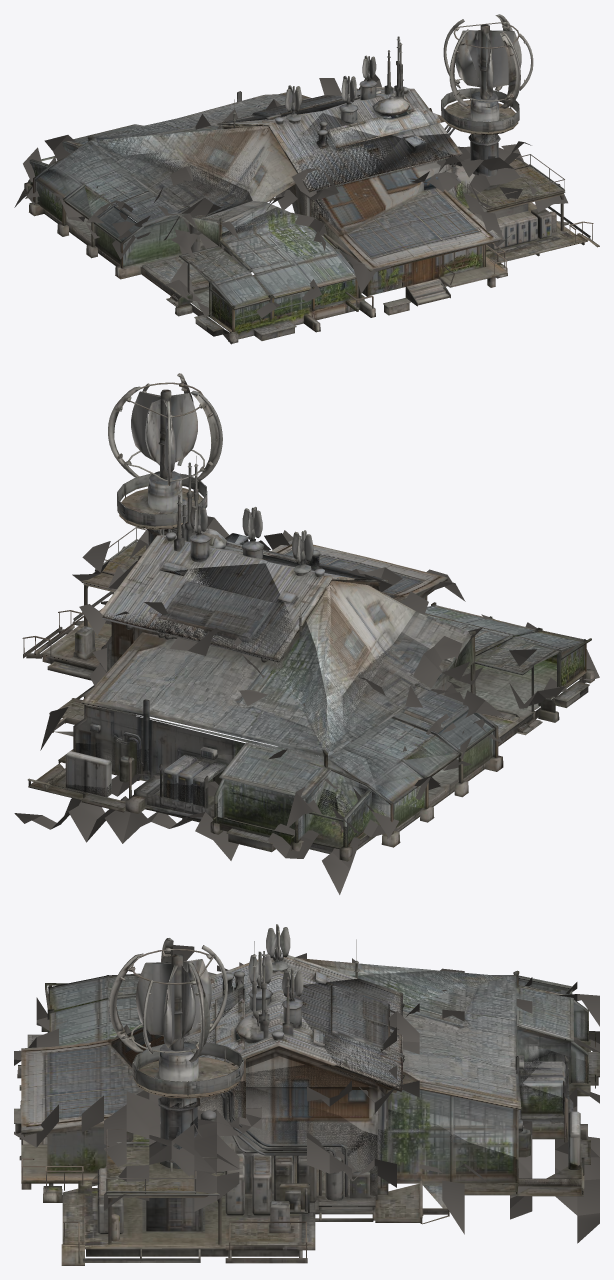
Rendered from khu_thap.glb.
3 renders of one model, top to bottom at view 1: azimuth 30°, elevation 25°; view 2: azimuth 150°, elevation 25°; view 3: azimuth 270°, elevation 25°, orthographic. The views are drawn at different scales.
Visible parts, largest first — view 1: do_1, do_2, nguyen; view 2: do_2, do_1, nguyen; view 3: do_1, do_2, nguyen.
Part boxes in pixels (x1=…): do_1: x1=14, y1=132, x2=599, y2=344; do_2: x1=23, y1=74, x2=567, y2=258; nguyen: x1=91, y1=14, x2=533, y2=201; do_2: x1=27, y1=530, x2=536, y2=845; do_1: x1=14, y1=516, x2=599, y2=894; nguyen: x1=100, y1=373, x2=415, y2=754; do_1: x1=14, y1=968, x2=599, y2=1265; do_2: x1=14, y1=945, x2=599, y2=1211; nguyen: x1=109, y1=924, x2=504, y2=1136.
Size of the model in its own units: 59.1 by 34.86 by 58.87.
2 materials, 1 textured.
